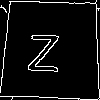Z: (27, 25, 61, 72)
